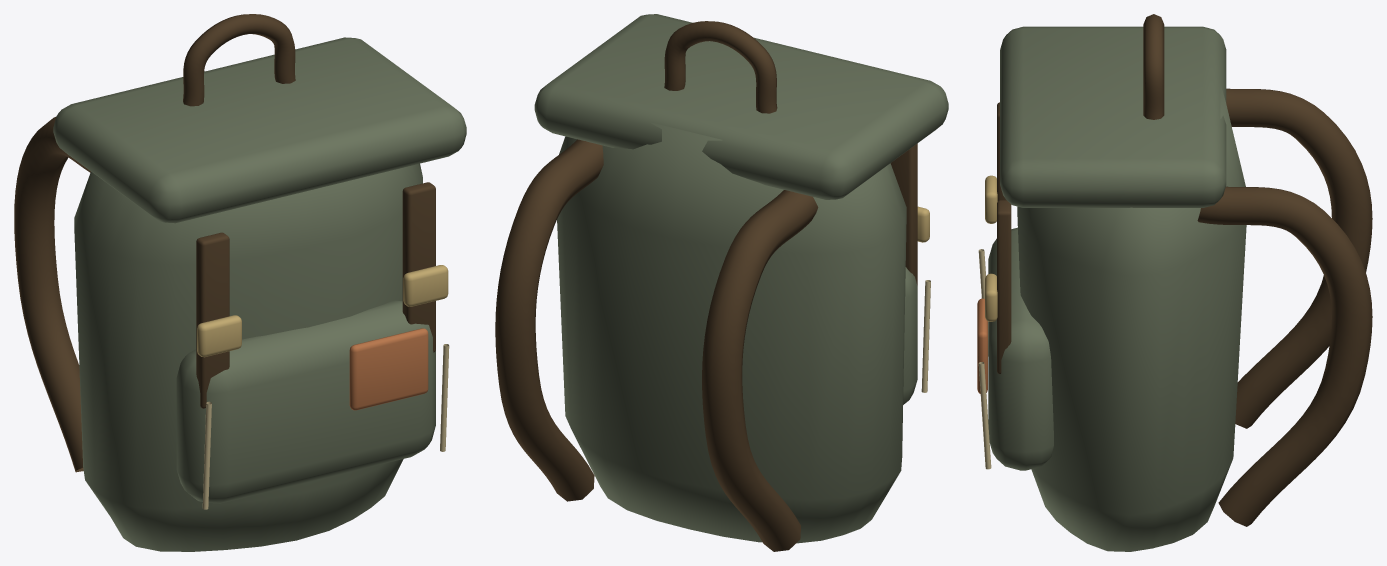
File: backpack.glb
The picture shows the model from 3 angles, left to right: view 1: azimuth 30°, elevation 25°; view 2: azimuth 150°, elevation 25°; view 3: azimuth 270°, elevation 25°; orthographic projection. The views are drawn at different scales.
Parts seen in each view (by area): view 1: Canvas body, Rolled flap, Front gusset, Shoulder strap, Repair, Top handle, Strap, Strap.001, Brass buckle.001, Brass buckle, Pocket seam, Pocket seam.001; view 2: Canvas body, Rolled flap, Shoulder strap, Shoulder strap.001, Top handle, Strap, Front gusset, Pocket seam; view 3: Canvas body, Rolled flap, Shoulder strap.001, Shoulder strap, Front gusset, Strap.001, Top handle, Repair, Pocket seam.001, Brass buckle.001, Brass buckle.
Boxes of the visible parts, <box> form: Canvas body: <box>74,71,422,551</box>; Rolled flap: <box>53,37,466,223</box>; Front gusset: <box>176,300,435,503</box>; Shoulder strap: <box>14,117,90,472</box>; Repair: <box>349,328,428,410</box>; Top handle: <box>183,14,295,106</box>; Strap: <box>196,232,229,408</box>; Strap.001: <box>402,182,435,352</box>; Brass buckle.001: <box>403,265,448,306</box>; Brass buckle: <box>197,315,241,357</box>; Pocket seam: <box>202,401,211,509</box>; Pocket seam.001: <box>440,344,449,451</box>; Canvas body: <box>557,122,906,543</box>; Rolled flap: <box>534,14,948,199</box>; Shoulder strap: <box>702,190,818,551</box>; Shoulder strap.001: <box>495,139,603,501</box>; Top handle: <box>664,21,777,113</box>; Strap: <box>890,143,917,285</box>; Front gusset: <box>903,267,917,404</box>; Pocket seam: <box>921,280,930,392</box>; Canvas body: <box>1017,84,1246,551</box>; Rolled flap: <box>1000,26,1226,207</box>; Shoulder strap.001: <box>1197,186,1372,526</box>; Shoulder strap: <box>1226,88,1372,428</box>; Front gusset: <box>988,227,1053,470</box>; Strap.001: <box>997,200,1011,374</box>; Top handle: <box>1143,14,1164,119</box>; Repair: <box>977,298,987,393</box>; Pocket seam.001: <box>978,362,991,469</box>; Brass buckle.001: <box>985,273,997,321</box>; Brass buckle: <box>985,175,997,223</box>.
Size of the model in its own units: 0.6414 by 0.894 by 0.681.
